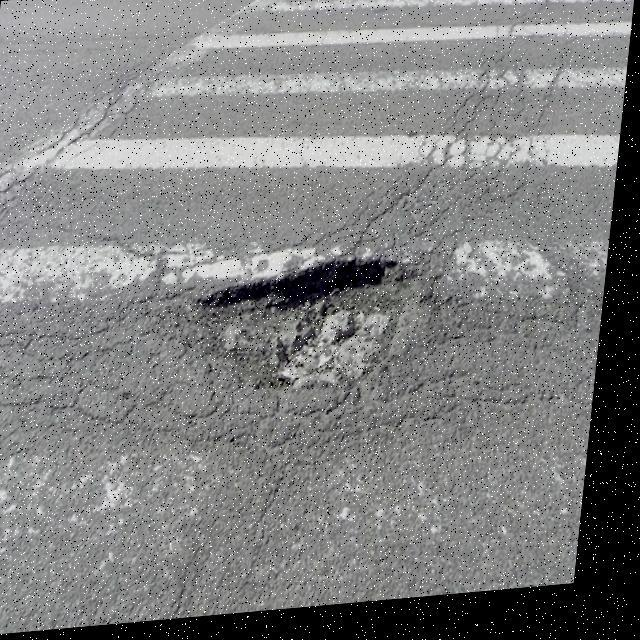pothole: (198, 250, 426, 416)
